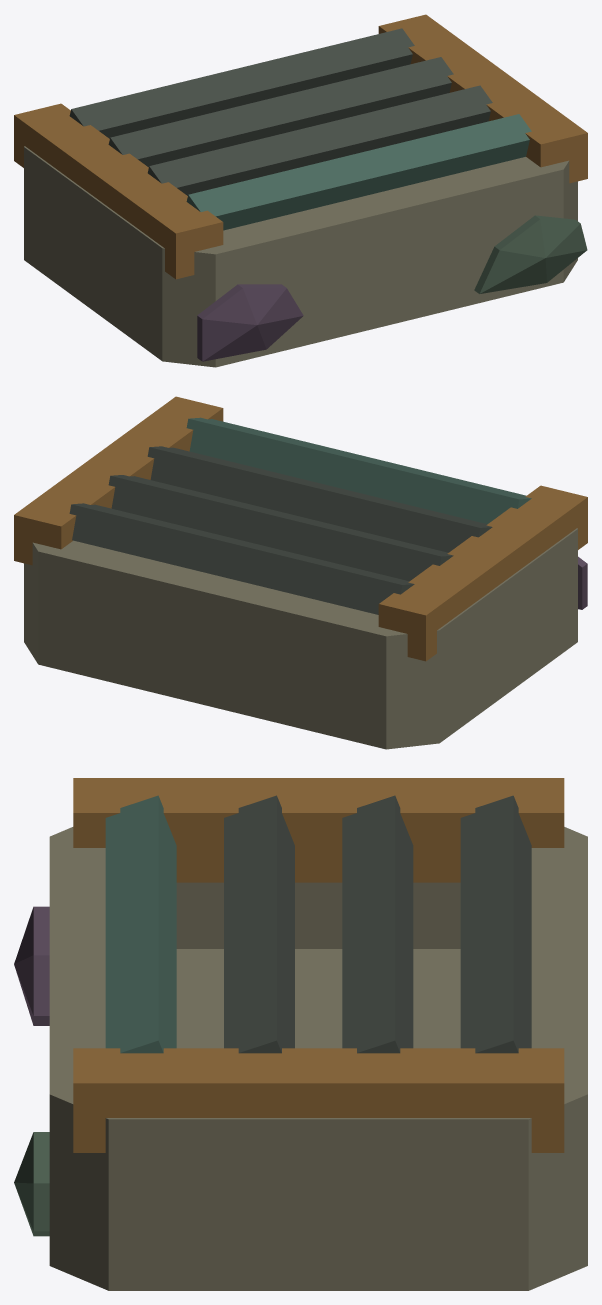
Rendered from SWAMP_GAS_VENT.shadow.glb.
3 views of the same model, one above another, from view 1: azimuth 30°, elevation 25°; view 2: azimuth 150°, elevation 25°; view 3: azimuth 270°, elevation 25° (orthographic). The views are drawn at different scales.
Parts seen in each view (by area): view 1: Body_Mesh; view 2: Body_Mesh; view 3: Body_Mesh.
Part boxes in pixels (x1=…): Body_Mesh: x1=14, y1=14, x2=587, y2=367; Body_Mesh: x1=14, y1=396, x2=587, y2=749; Body_Mesh: x1=14, y1=778, x2=587, y2=1290.
Size of the model in its own units: 1.23 by 0.4085 by 0.97.
